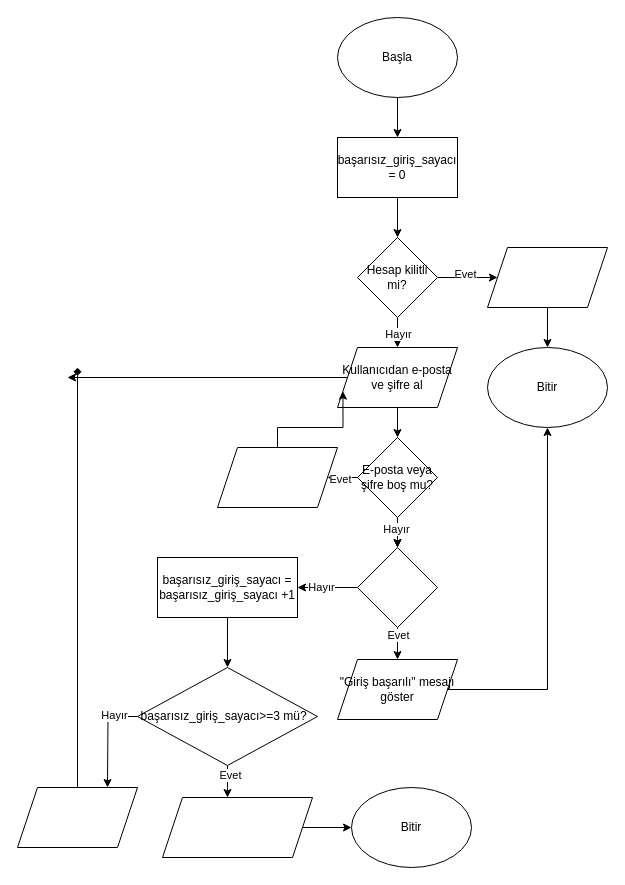
The diagram is 625 pixels wide and 885 high, and some of its shapes have lost their labels. Each missing label, with the centre of its shape:
"Giriş bilgileri hatalı" mesajı göster: point 77,817
"Hesap geçici olarak kilitlendi"uyarısı göster: point 547,277
"Hesap kilitlendi" mesajı göster: point 237,827
"Lütfen alanları doldurunuz": point 277,477
Bilgiler doğru mu?: point 397,587
